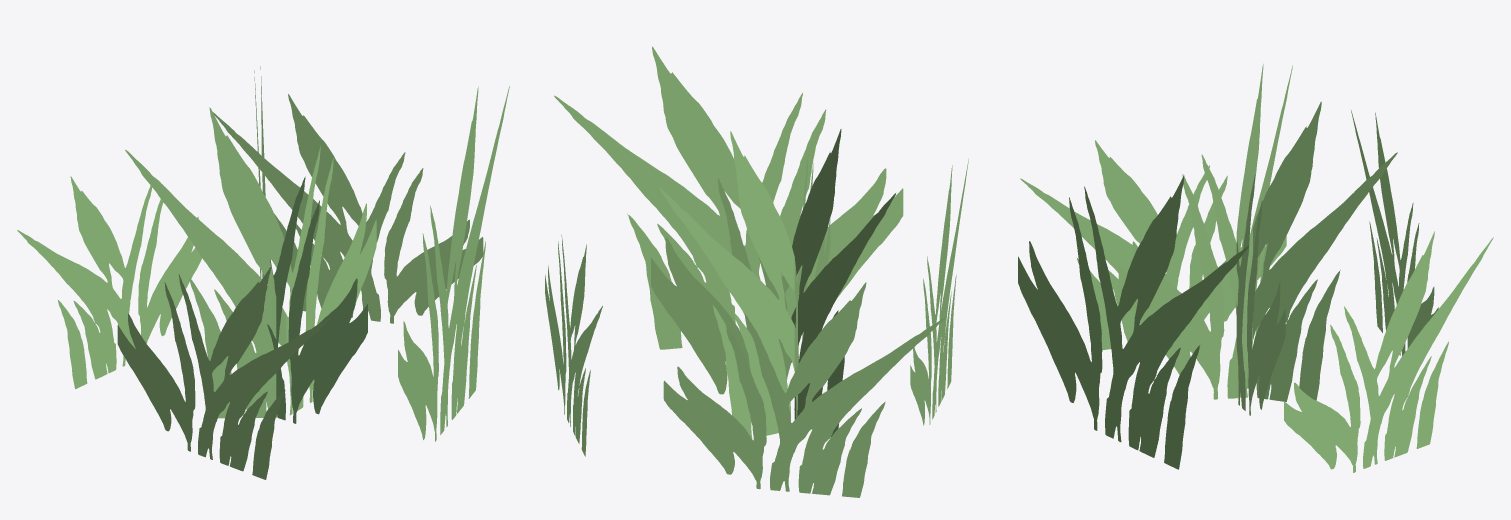
Rendered from SM_Grass02.fbx.
3 renders of one model, left to right at view 1: azimuth 30°, elevation 25°; view 2: azimuth 150°, elevation 25°; view 3: azimuth 270°, elevation 25°, orthographic. The views are drawn at different scales.
Visible parts, largest first — view 1: Grass02; view 2: Grass02; view 3: Grass02.
Boxes of the visible parts, x1,y1,x2,y2 form: Grass02: [17, 66, 509, 479]; Grass02: [545, 46, 968, 497]; Grass02: [1018, 64, 1493, 472].
Size of the model in its own units: 73.58 by 51.52 by 72.01.
